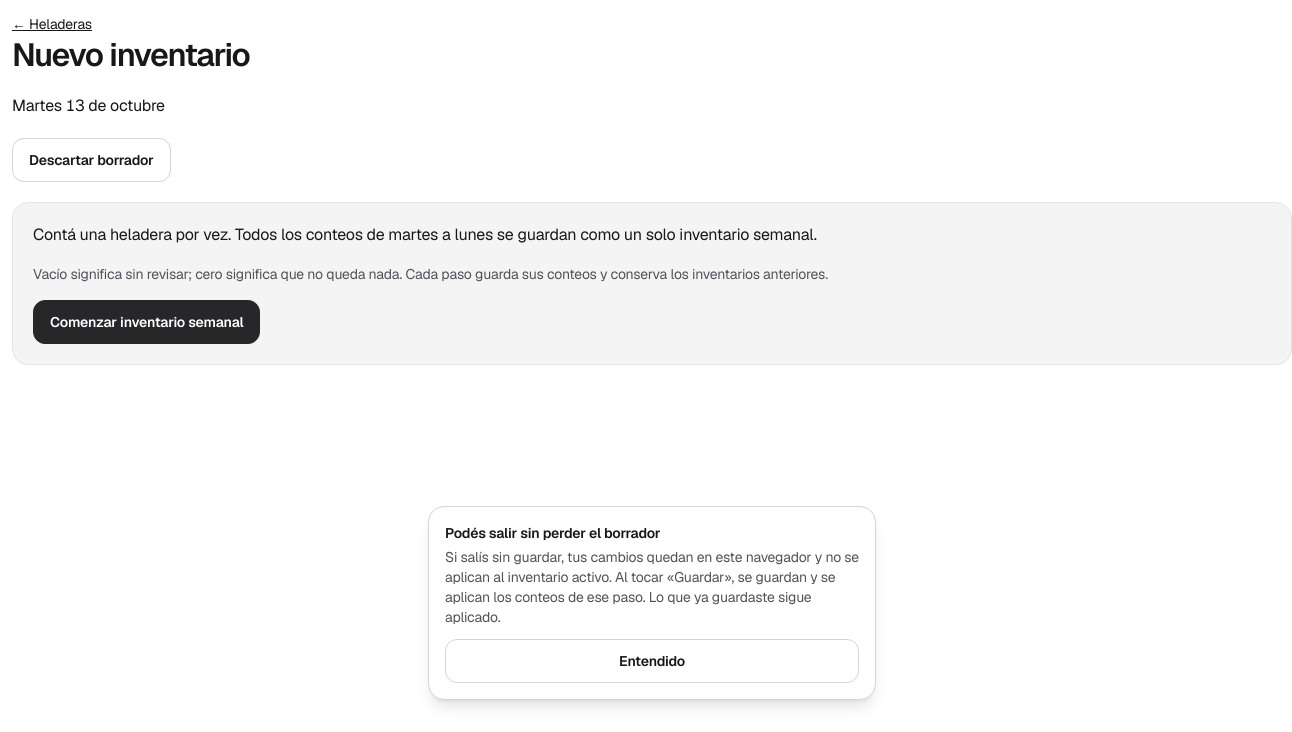
starts from a separate intro, leaves new counts blank, and records explicit zero
Click the button "Comenzar inventario semanal".
click(147, 322)  # box [33,300,260,344]
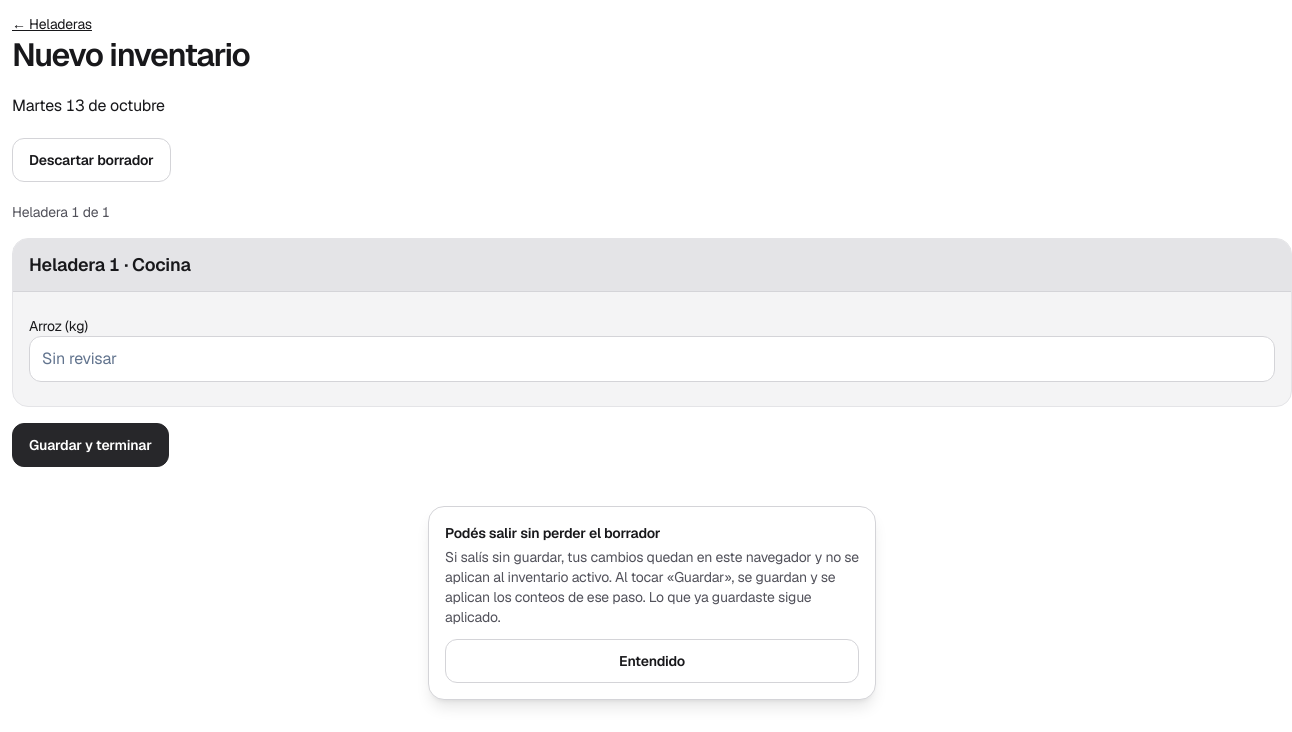
Check: the number field is not empty
Type "0" into the number field.
click(652, 359); type("0")  # box [29,336,1275,382]
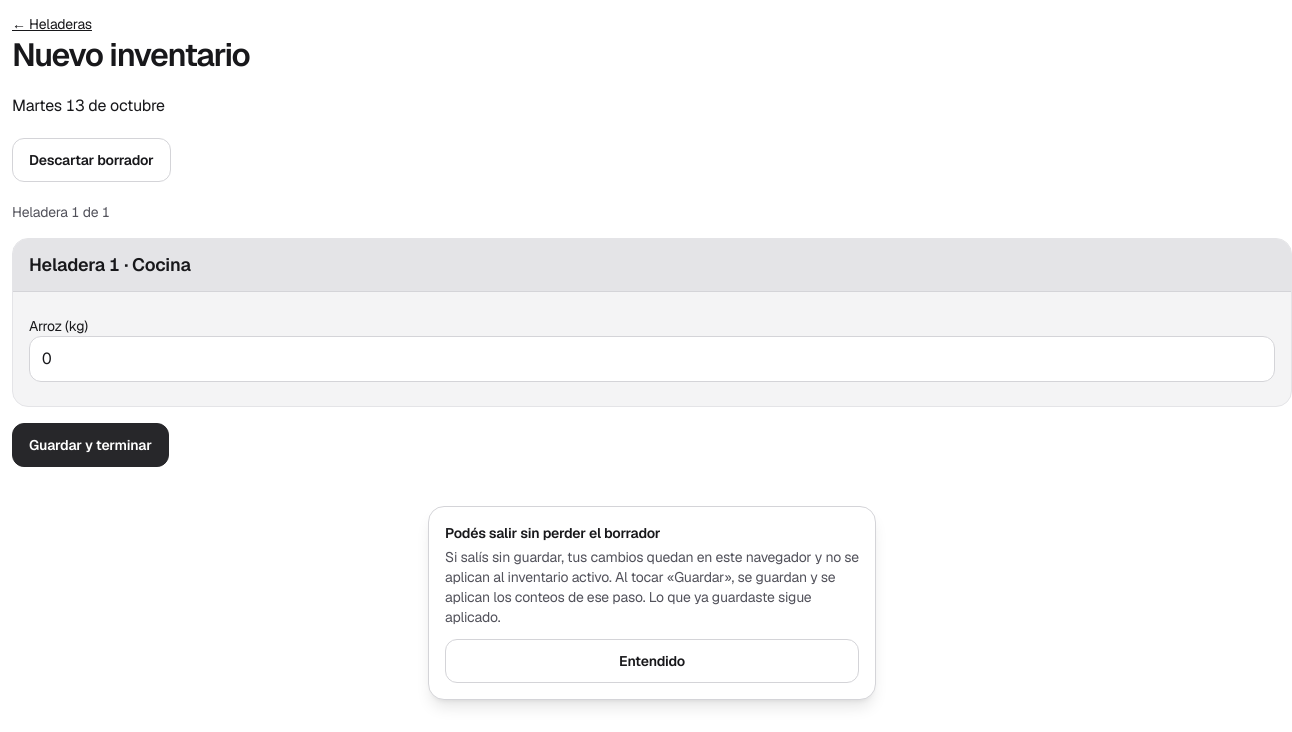
Click the button "Guardar y terminar".
click(90, 445)  # box [12,423,169,467]
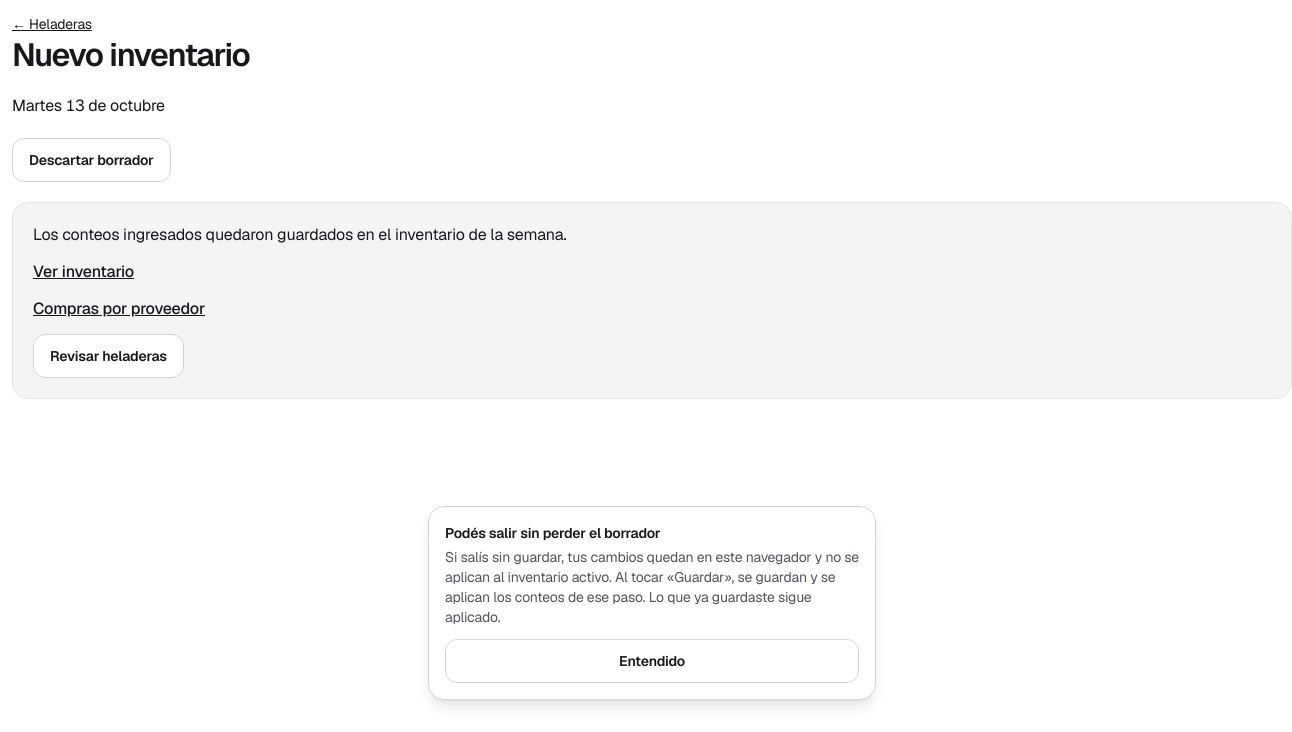
Check: the message shows "quedaron guardados", box [33,224,567,245]
